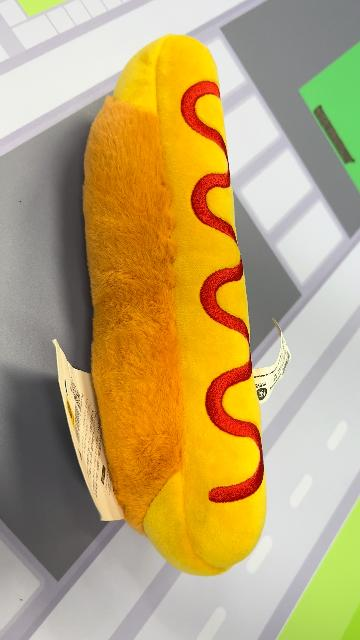hotdog: (80, 33, 270, 577)
